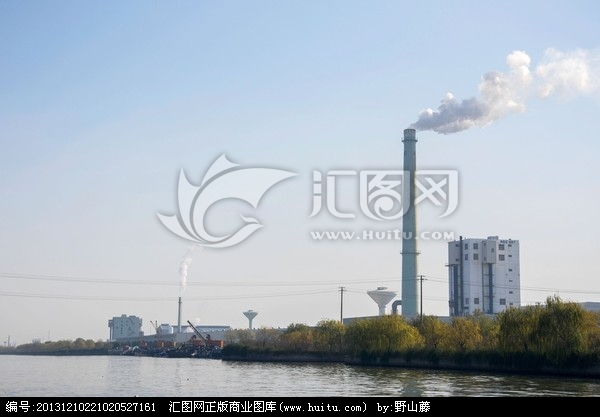dust: (398, 35, 592, 138), (168, 236, 200, 302)
